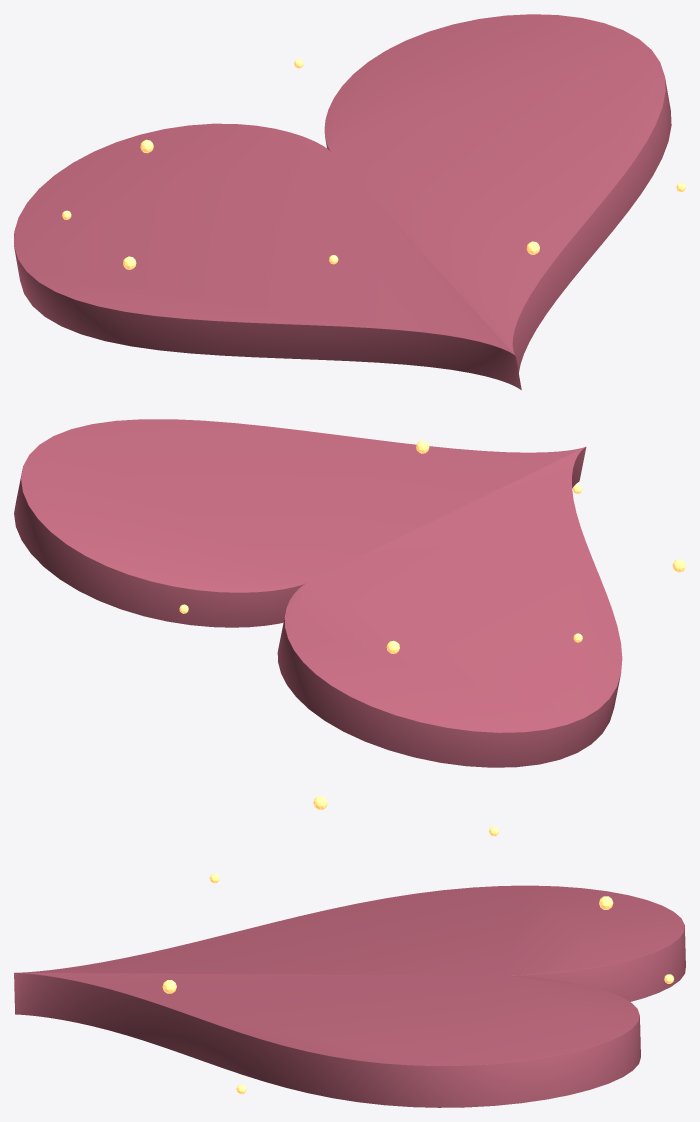
The model's file is coracao-flutuante.glb.
3 renders of one model, top to bottom at view 1: azimuth 30°, elevation 25°; view 2: azimuth 150°, elevation 25°; view 3: azimuth 270°, elevation 25°, orthographic. The views are drawn at different scales.
Parts seen in each view (by area): view 1: Coração; view 2: Coração; view 3: Coração.
Boxes of the visible parts, x1,y1,x2,y2 form: Coração: [14, 14, 671, 390]; Coração: [14, 419, 622, 767]; Coração: [14, 885, 685, 1107].
Bounding box in the file's own units: 3.65 × 0.8859 × 3.42.
